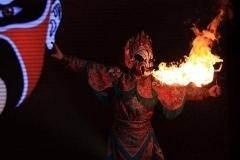fire: (153, 5, 227, 86)
